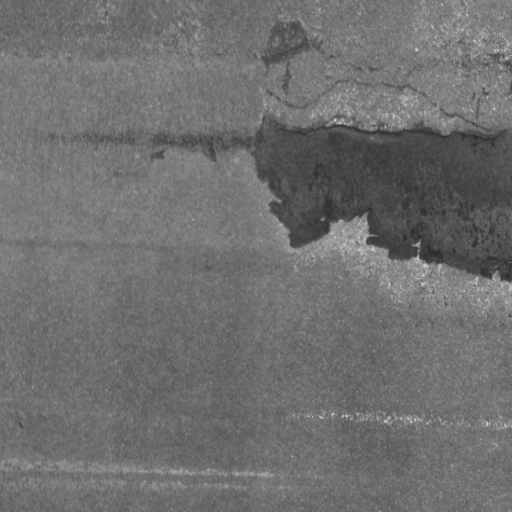aokeng: (251, 108, 512, 283)
